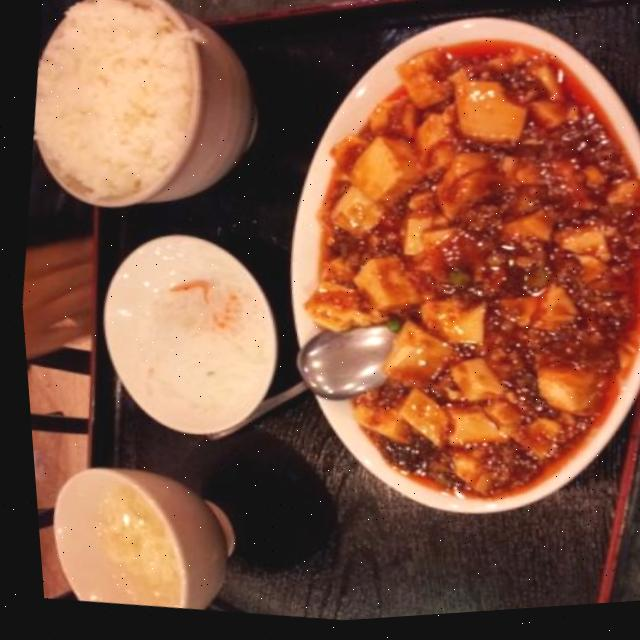米饭主食: (13, 0, 277, 235)
